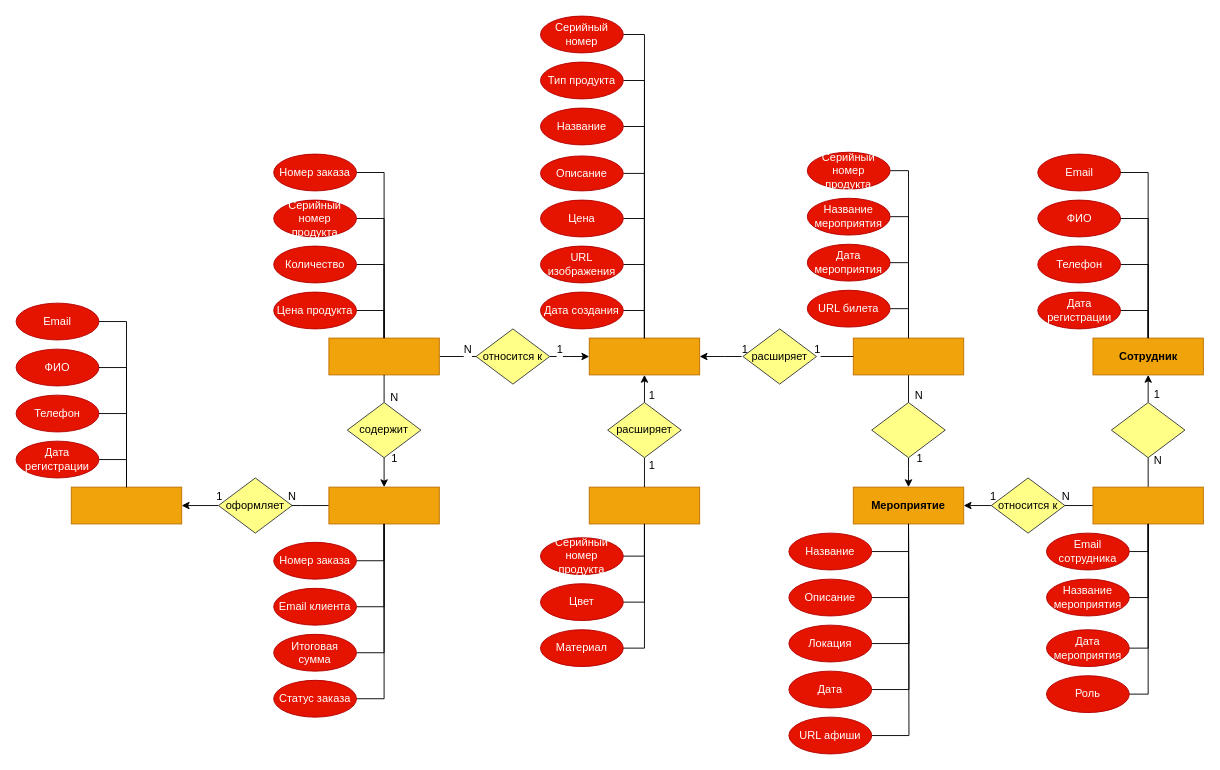
This 1220x770 diagram has some shape labels left out. The centre of each missing label's shape, as x and y in pixels:
"Билет на Мероприятие" goes at point (908, 356).
"Брендированная продукция" goes at point (644, 505).
"Заказ" goes at point (383, 505).
"Клиент" goes at point (126, 505).
"принадлежит" goes at point (908, 430).
"Продукт" goes at point (644, 356).
"Состав Заказа" goes at point (383, 356).
"участвует в" goes at point (1147, 430).
"Участие Сотрудника" goes at point (1147, 505).
